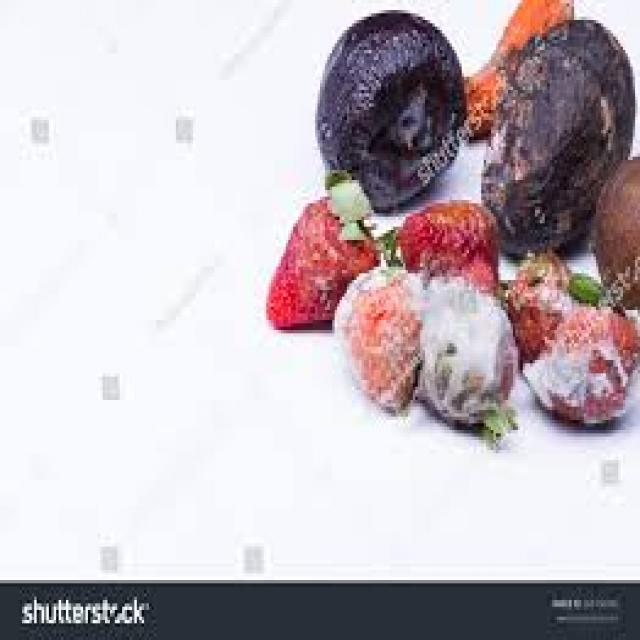organic waste: (477, 17, 638, 256), (313, 7, 462, 206), (503, 247, 638, 423), (261, 163, 381, 327), (413, 267, 515, 430), (459, 0, 572, 137), (330, 257, 420, 410), (396, 197, 496, 290), (588, 153, 638, 307), (376, 220, 401, 257)
